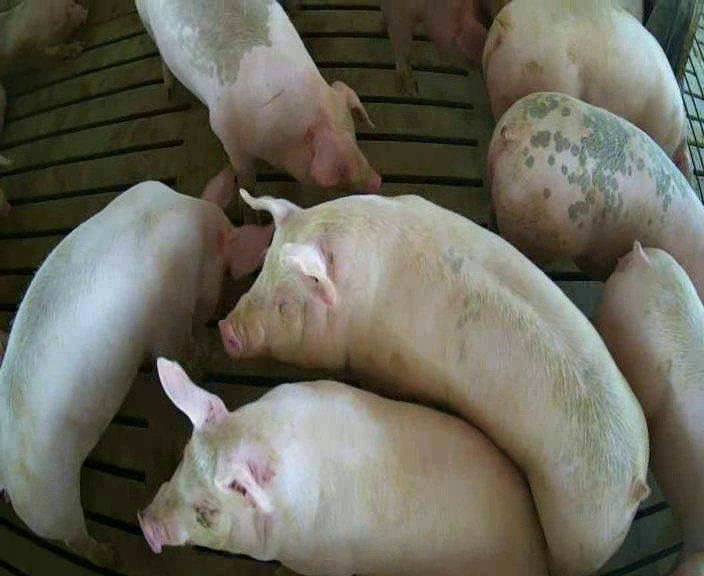pig: (220, 191, 646, 573), (0, 168, 272, 562), (139, 359, 546, 573), (137, 2, 379, 191), (489, 93, 703, 300), (482, 2, 688, 177), (595, 243, 703, 575)
